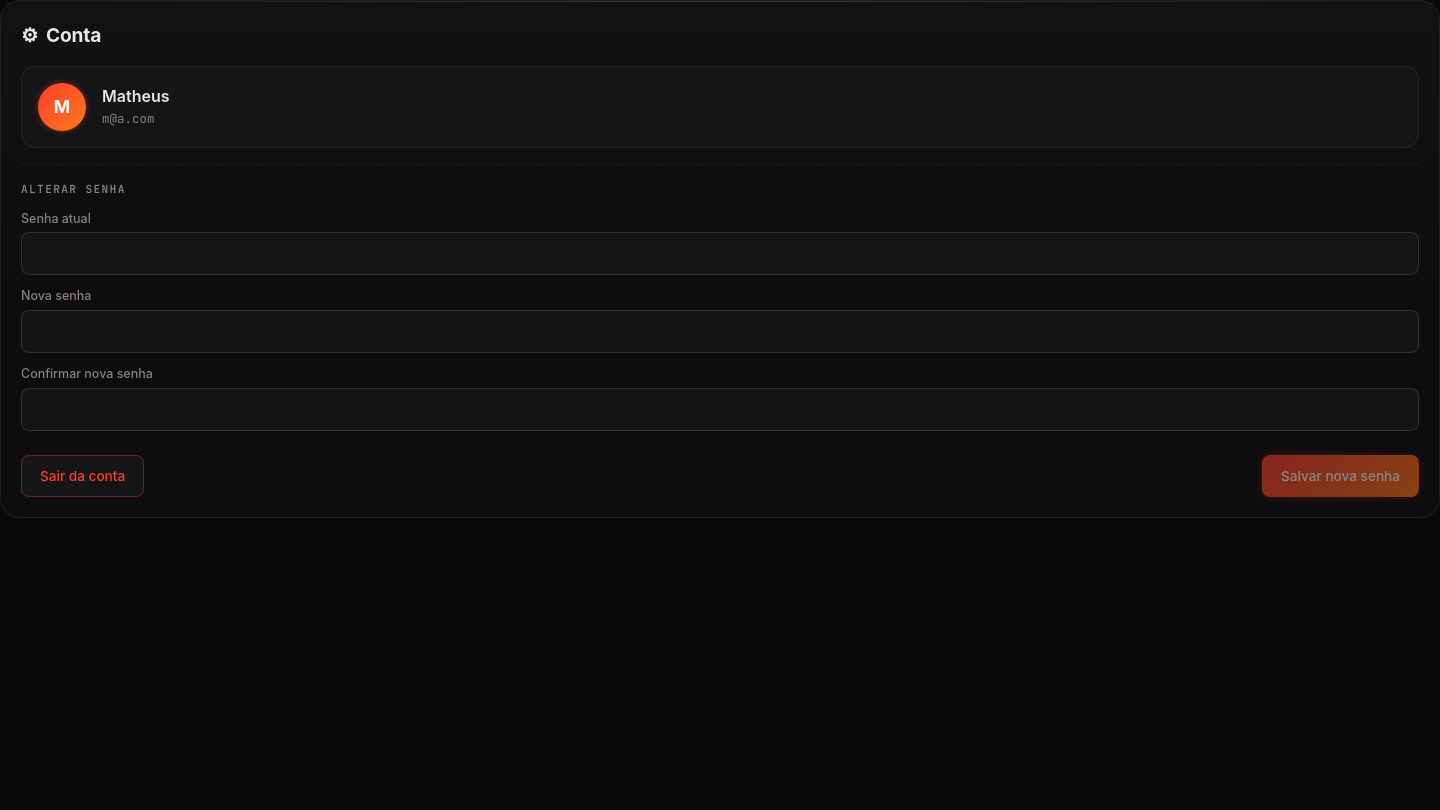
AccountSettingsCard › erro do backend é renderizado inline
The image size is (1440, 810).
Type "wrong" into the password field labelled "Senha atual" at (720, 254), box [21,232,1419,275]
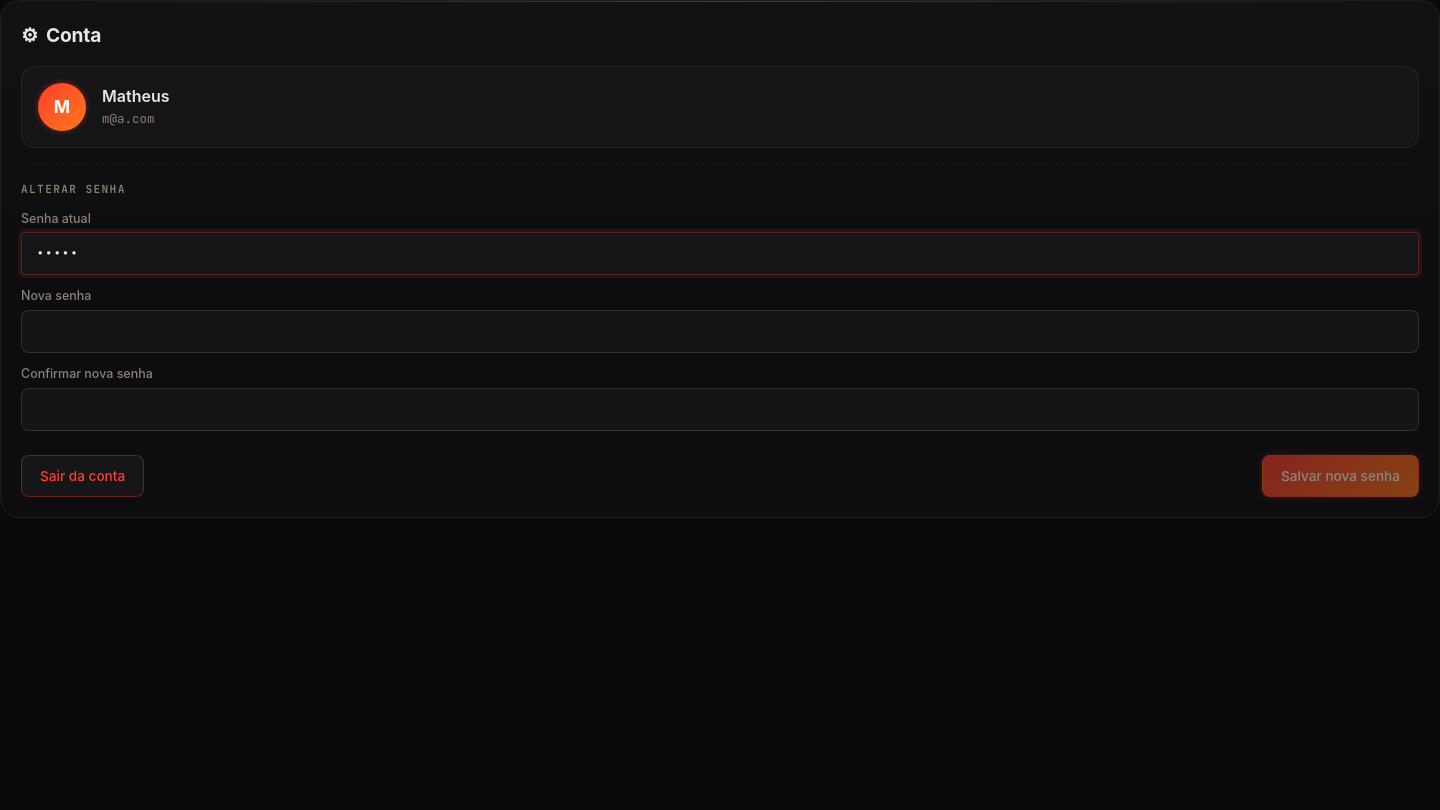
Type "newstrong8" into the password field labelled "Nova senha" at (720, 332), box [21,310,1419,353]
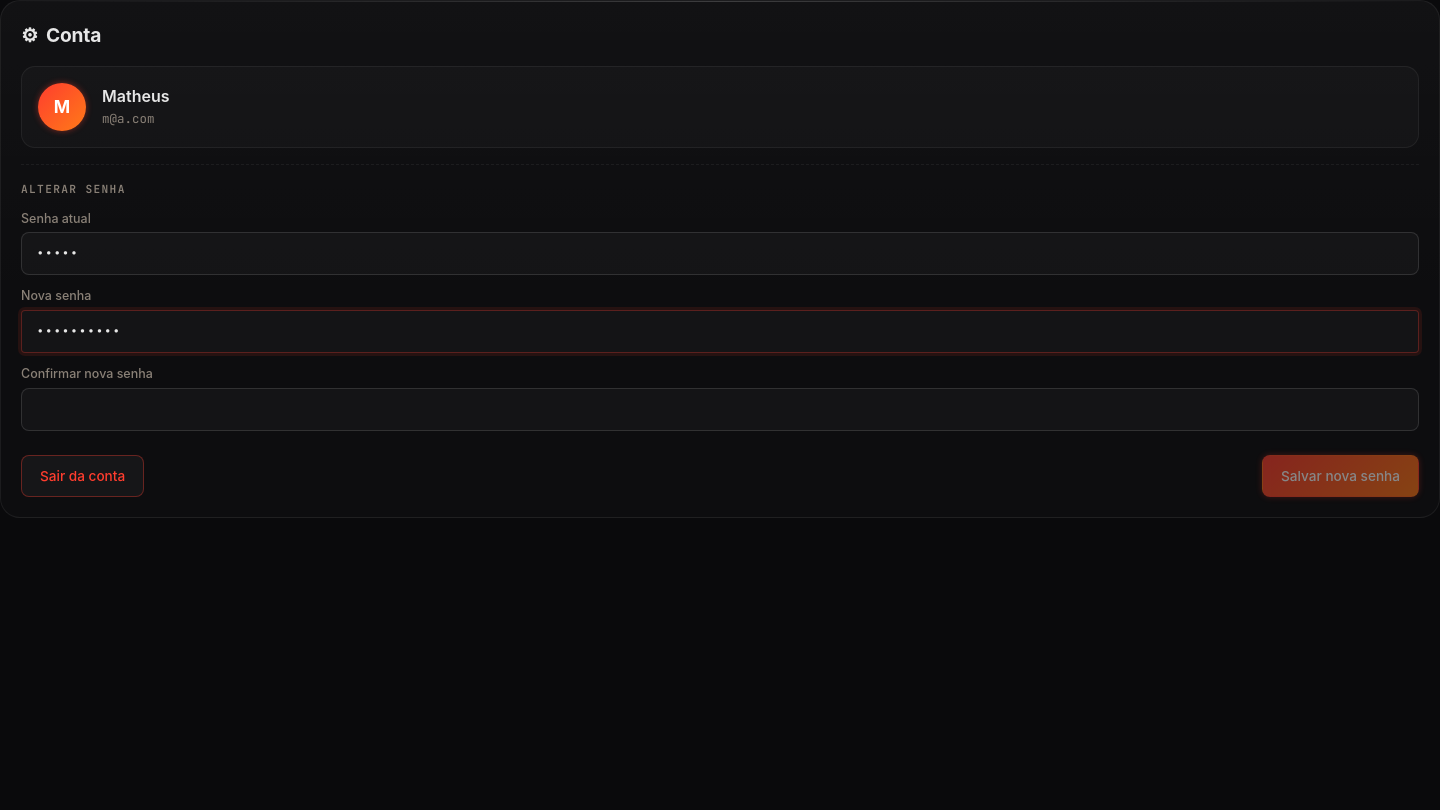
Type "newstrong8" into the password field labelled "Confirmar nova senha" at (720, 410), box [21,388,1419,431]
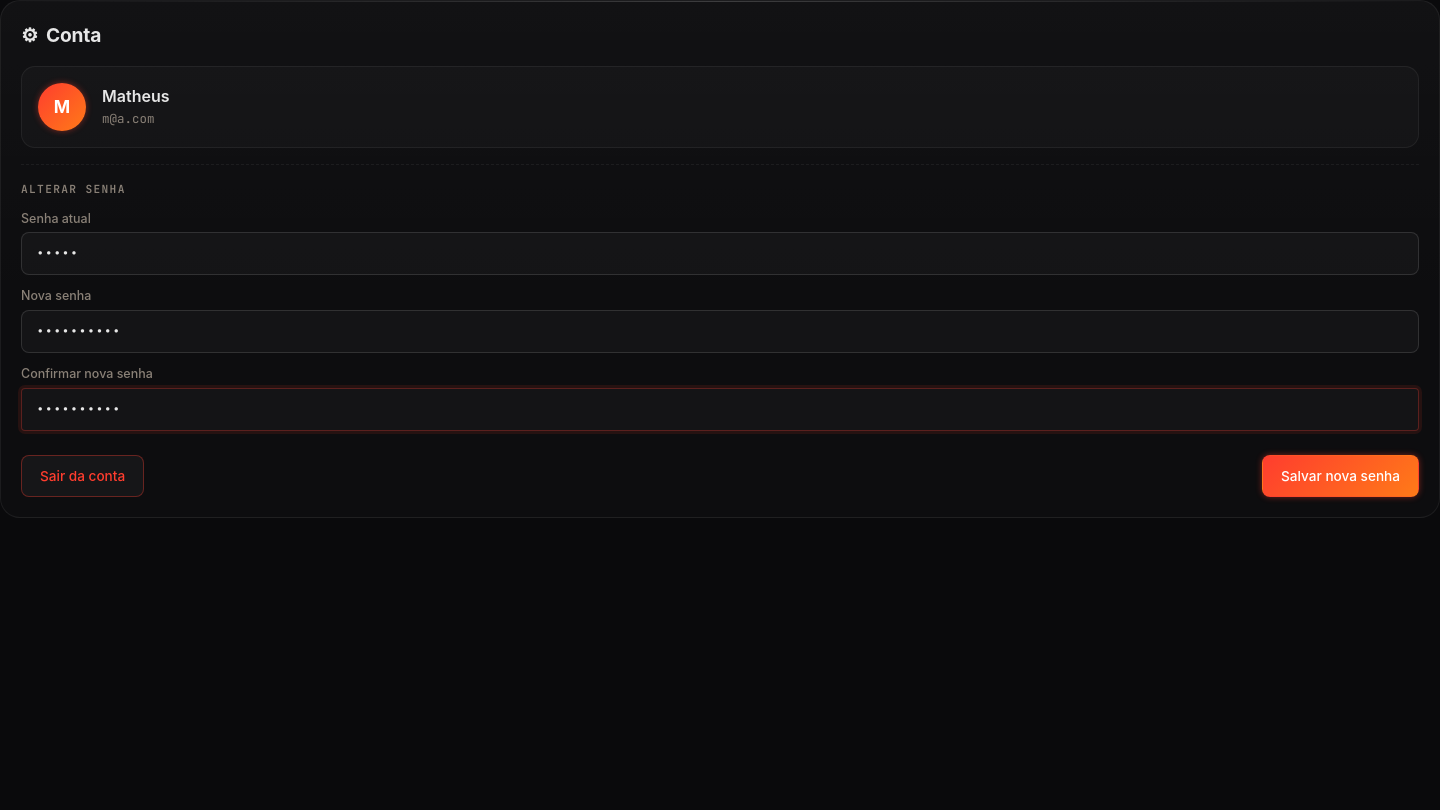
Click the button "Salvar nova senha" at (1341, 476), box [1262,455,1419,498]
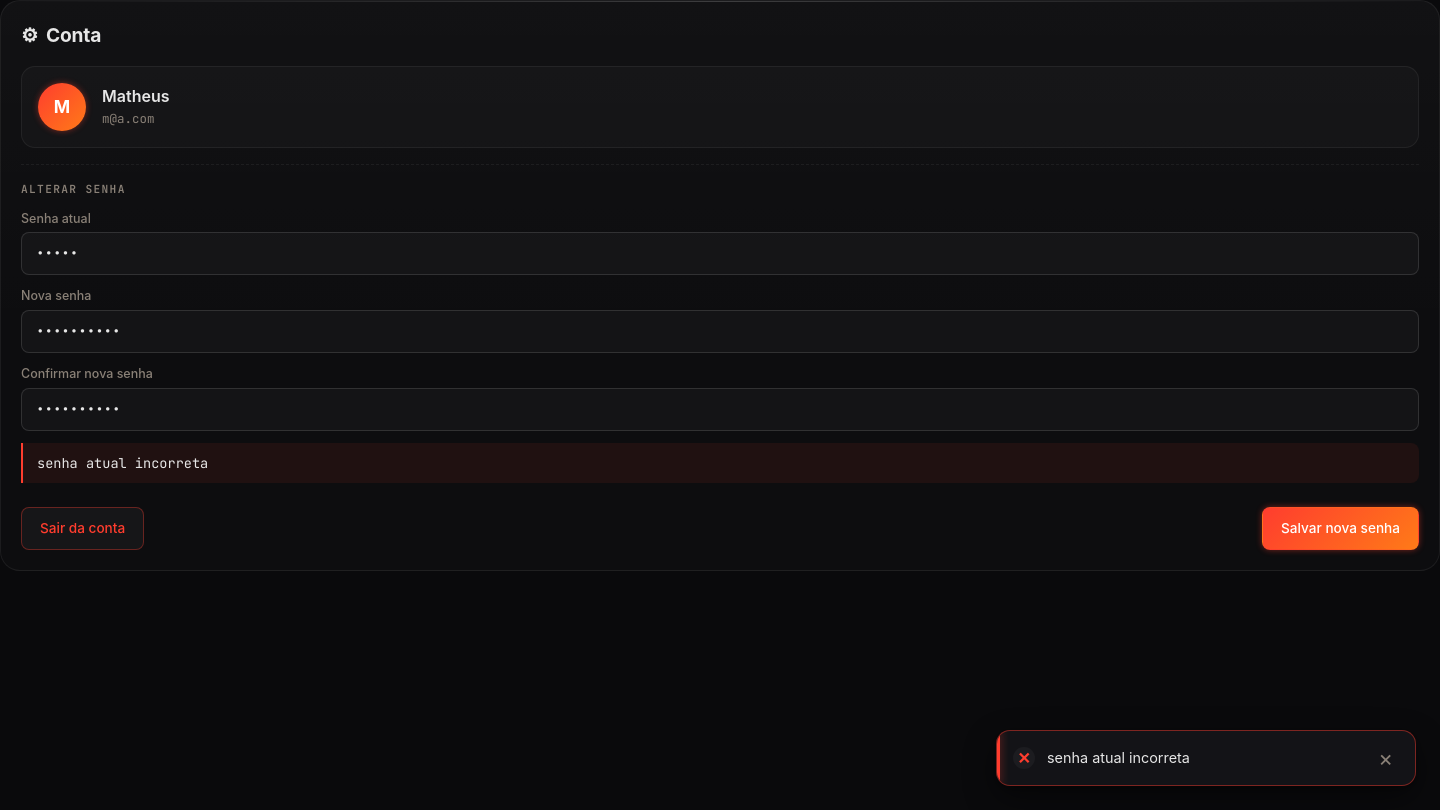
Expected: the message "senha atual incorreta" is shown, [21,443,1419,484]
Expected: the message with class "acctset__error" reads "senha atual incorreta", [37,454,208,472]
